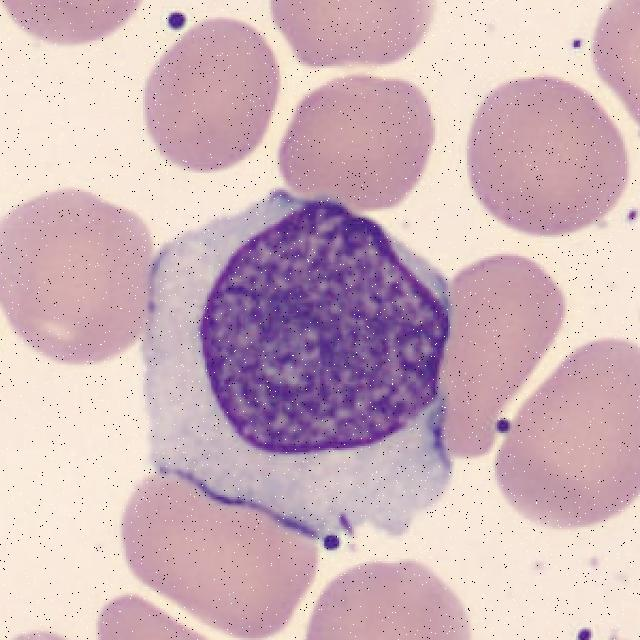White Blood Cell: (145, 191, 450, 536)
